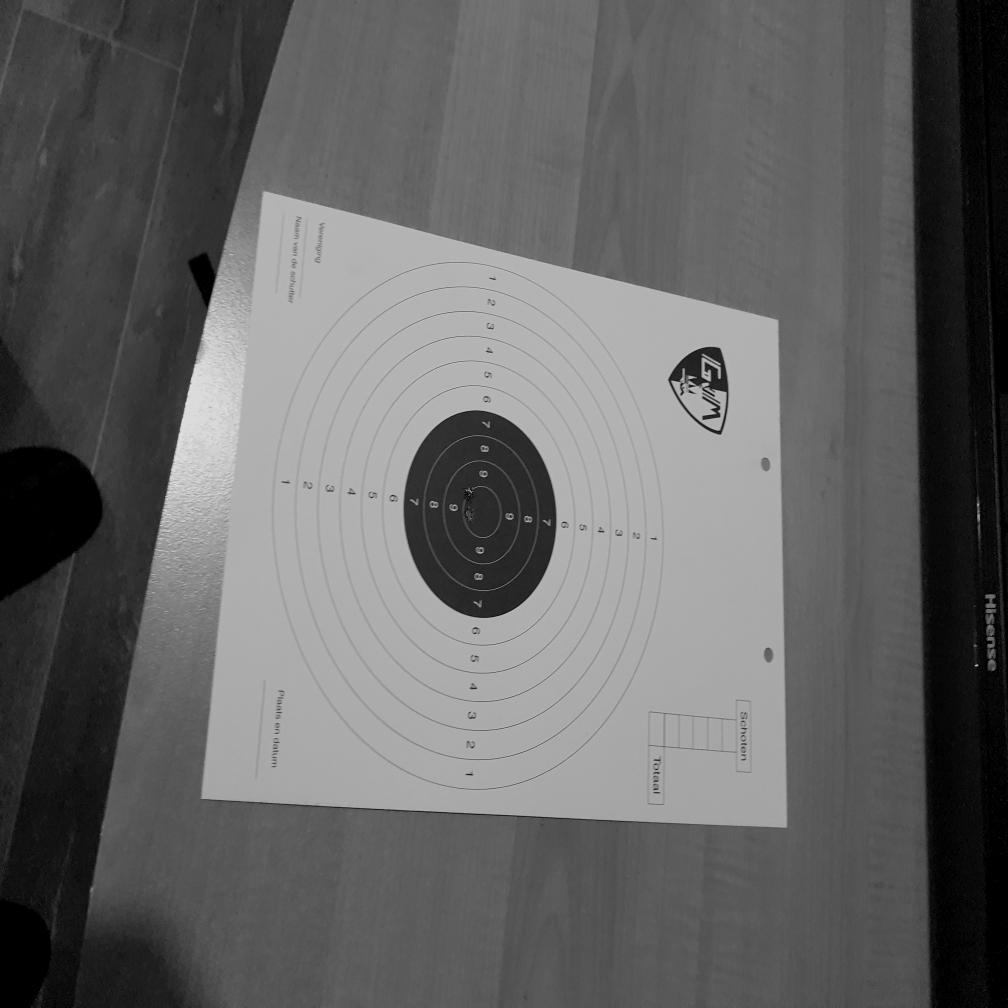10: (462, 485, 476, 504), (463, 505, 476, 523)
Target: (272, 262, 664, 791)
black_contour: (404, 411, 557, 618)
